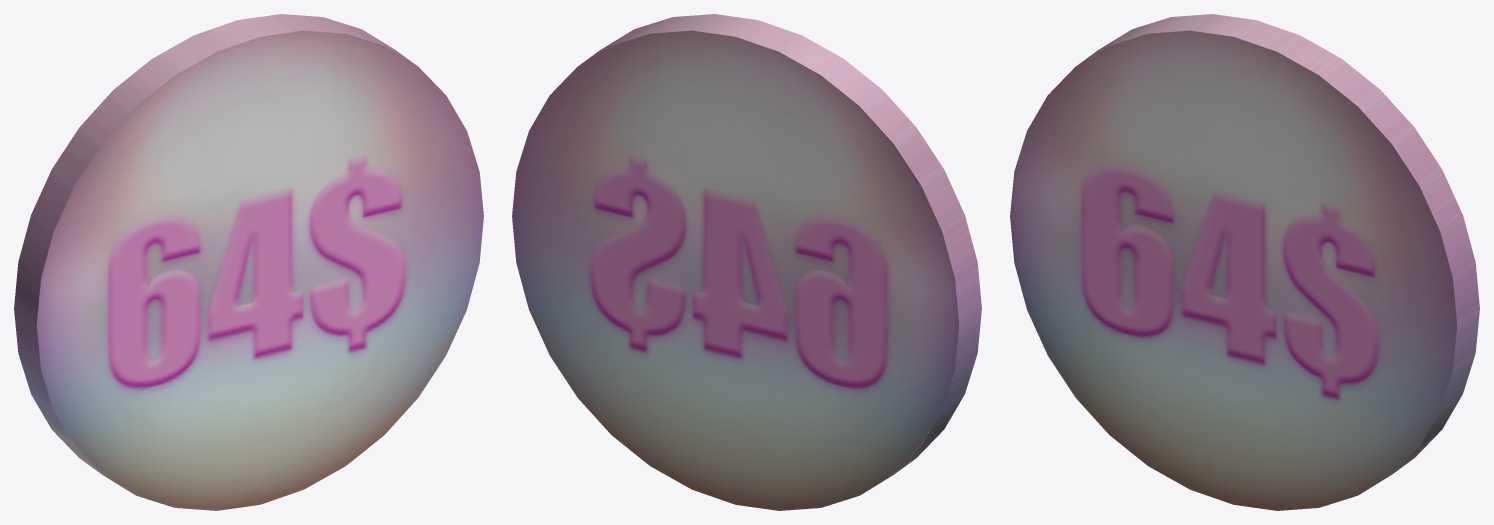
Rendered from 9_64Dollars.fbx.
The picture shows the model from 3 angles, left to right: view 1: azimuth 30°, elevation 25°; view 2: azimuth 150°, elevation 25°; view 3: azimuth 330°, elevation 25°; orthographic projection.
Visible parts, largest first — view 1: _64Dollars; view 2: _64Dollars; view 3: _64Dollars.
Boxes of the visible parts, box(x1,y1,x2,y2) form: _64Dollars: box(14, 14, 483, 510); _64Dollars: box(512, 14, 981, 510); _64Dollars: box(1010, 14, 1479, 510).
Size of the model in its own units: 90 by 90 by 7.91.
1 material, 1 textured.
